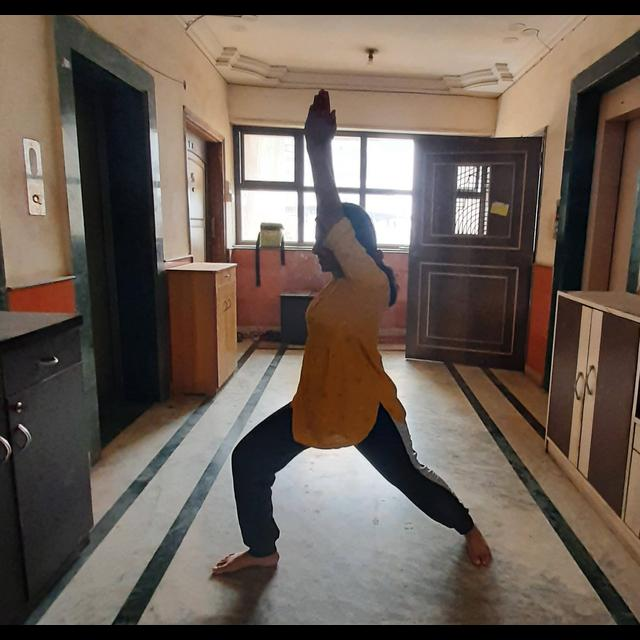Warrior_I: (203, 80, 500, 579)
